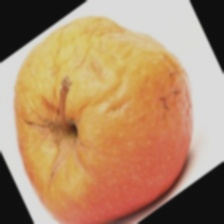apple: (27, 40, 167, 200)
